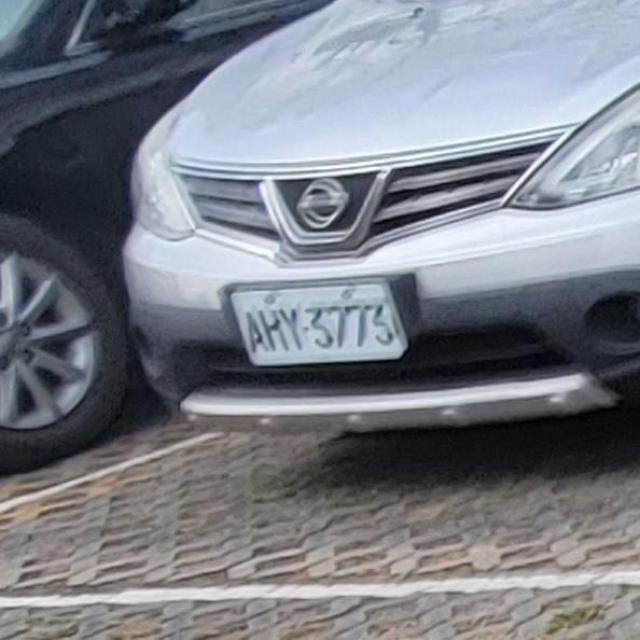W: (213, 266, 415, 378)
